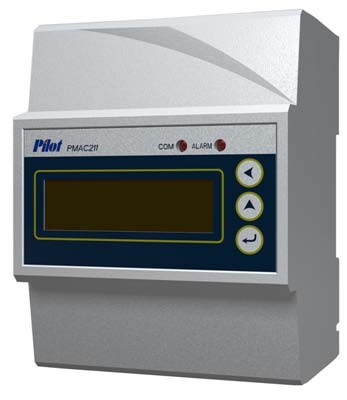counter: (11, 22, 304, 387)
counter_screen: (39, 174, 218, 237)
